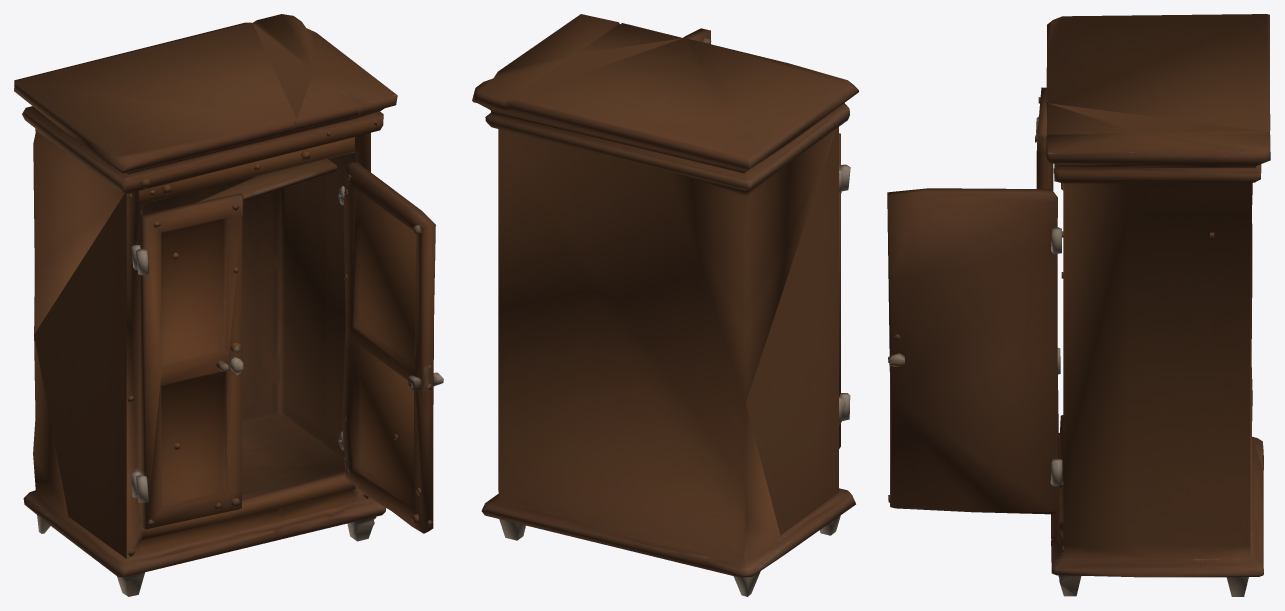
The model's file is wardrobe.glb.
3 renders of one model, left to right at view 1: azimuth 30°, elevation 25°; view 2: azimuth 150°, elevation 25°; view 3: azimuth 270°, elevation 25°, orthographic. The views are drawn at different scales.
Parts seen in each view (by area): view 1: wardrobe_LOD0; view 2: wardrobe_LOD0; view 3: wardrobe_LOD0.
Boxes of the visible parts, left/top/right/bottom form: wardrobe_LOD0: left=14, top=14, right=443, bottom=596; wardrobe_LOD0: left=472, top=14, right=858, bottom=596; wardrobe_LOD0: left=887, top=14, right=1270, bottom=596.
Size of what is drawn, in the model's own units: 1.29 by 2 by 1.52.
Materials: 1 (1 with a texture image).
